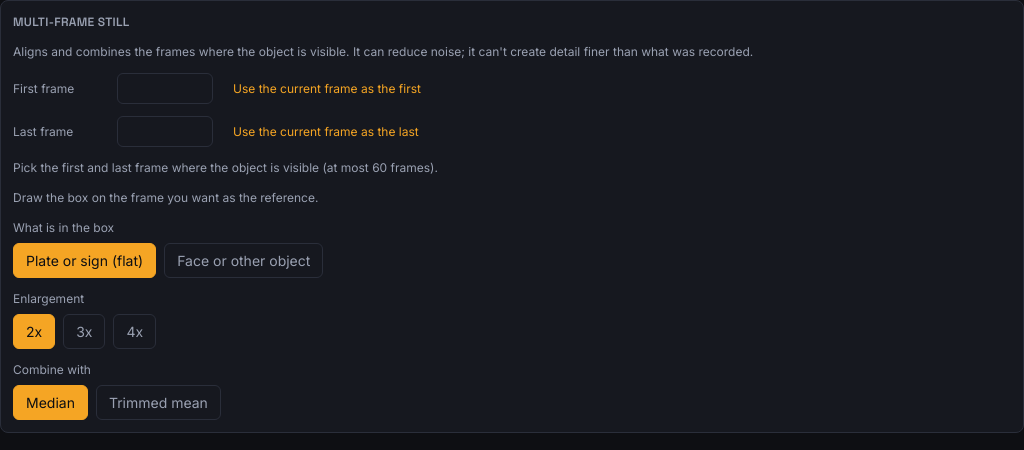
Test: RoiFusionPanel › sets the range from the frame on screen and counts it against the limit
Click the button "Use the current frame as the first".
click(327, 88)  # box [229, 80, 425, 98]
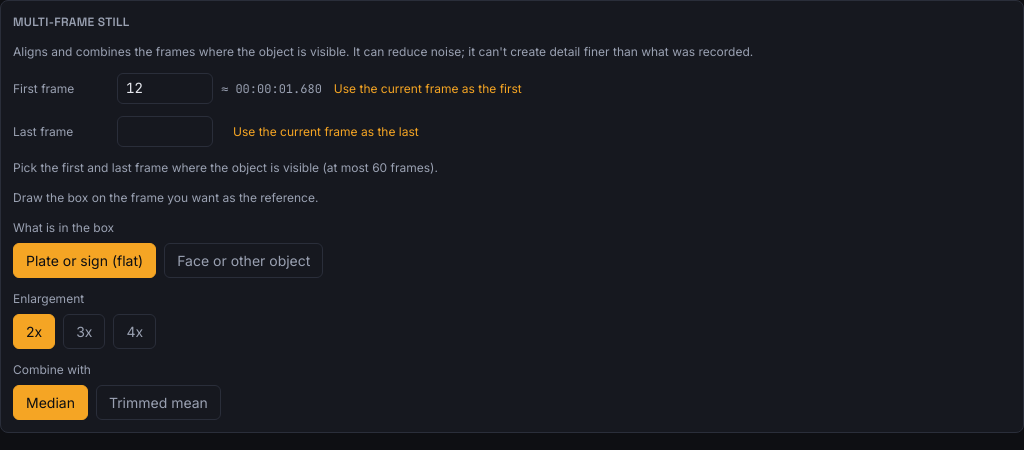
Type "41" into the number field labelled "Last frame".
click(165, 132); type("41")  # box [117, 116, 213, 147]
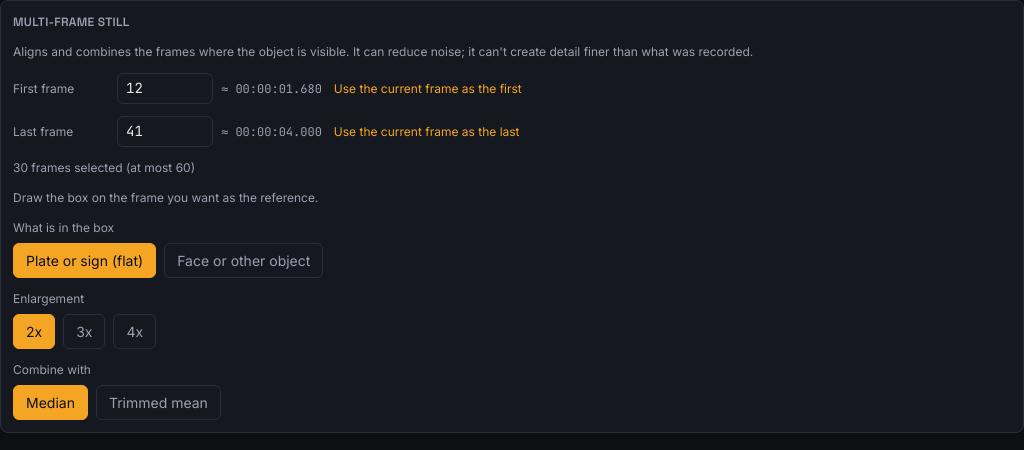
Check: the number field labelled "First frame" holds "12", box [117, 73, 213, 104]
Check: the text "30 frames selected (at most 60)" is shown, box [13, 160, 195, 175]
